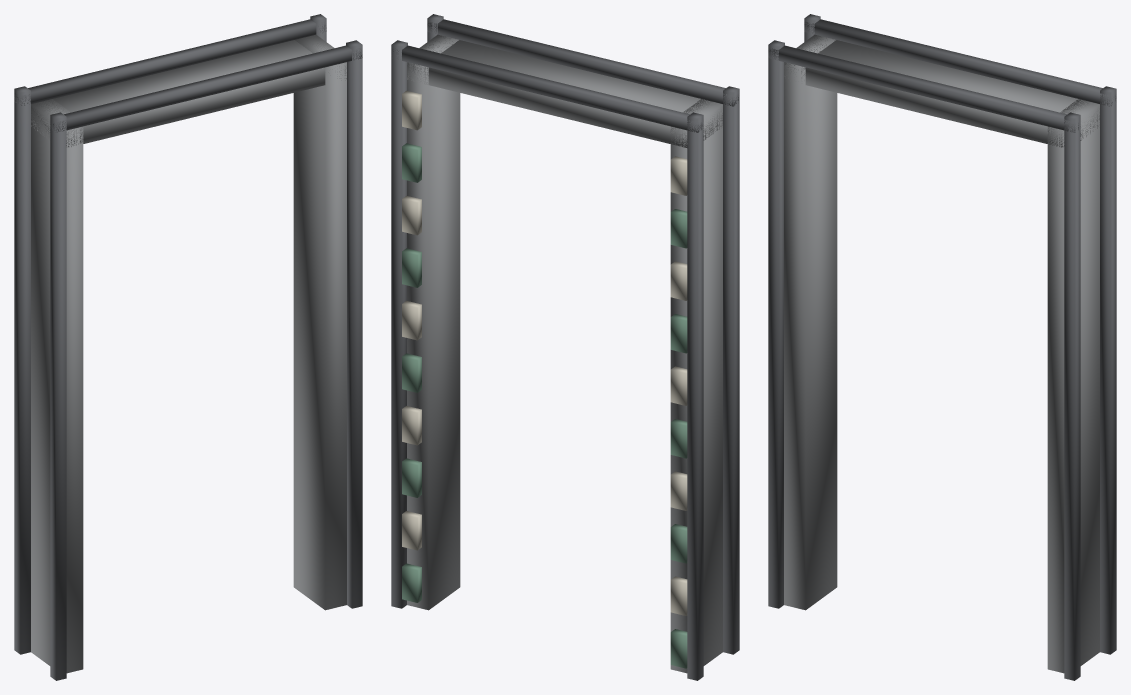
The model's file is doorway_tile_return_w106_h220_d24.glb.
3 renders of one model, left to right at view 1: azimuth 30°, elevation 25°; view 2: azimuth 150°, elevation 25°; view 3: azimuth 330°, elevation 25°, orthographic.
Visible parts, largest first — view 1: world; view 2: world; view 3: world.
Boxes of the visible parts, left/top/right/bottom form: world: left=14, top=14, right=362, bottom=680; world: left=391, top=14, right=739, bottom=680; world: left=768, top=14, right=1116, bottom=680.
Size of the model in its own units: 1.34 by 2.35 by 0.3214.
